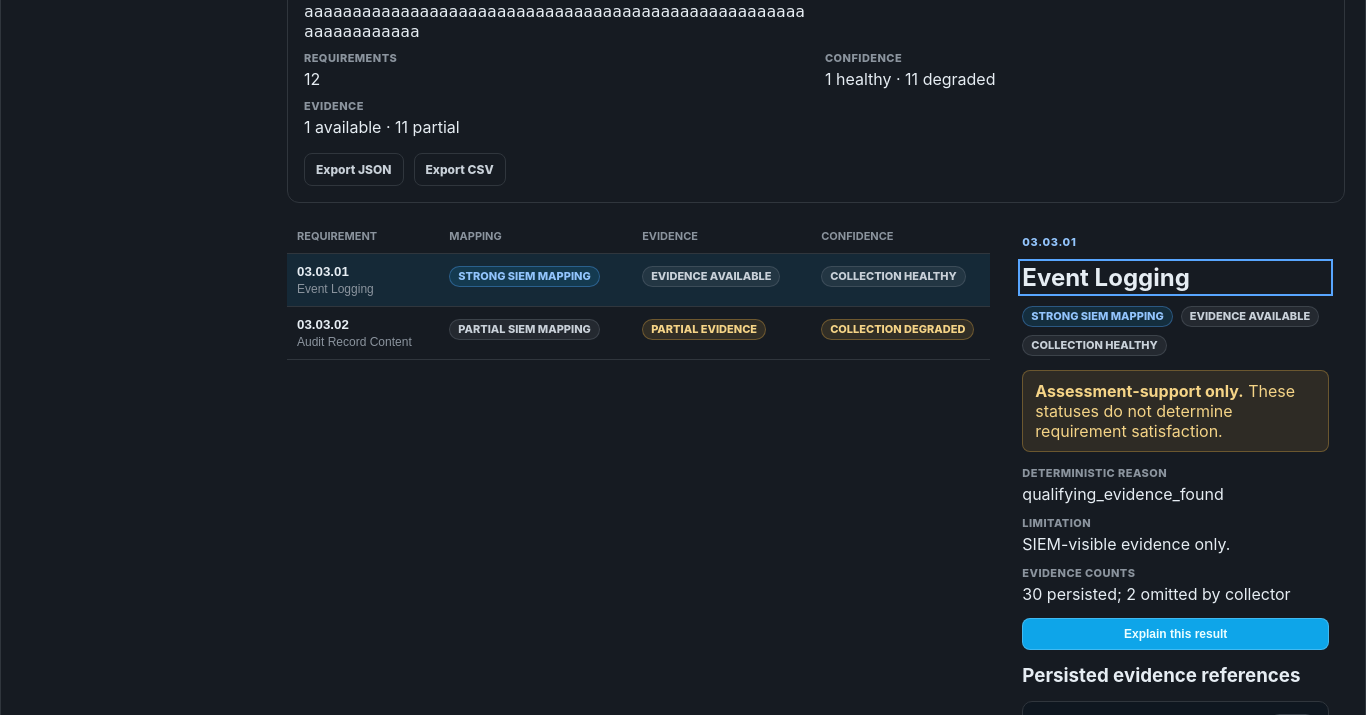
Scenario: explanation uses async lifecycle and renders only successful grounded prose
(page scrolled)
What coordinates should you click on to do the following:
click the button "Explain this result"
I would click on:
 (1176, 634)
Its box is [1022,618,1329,650].
(page scrolled)
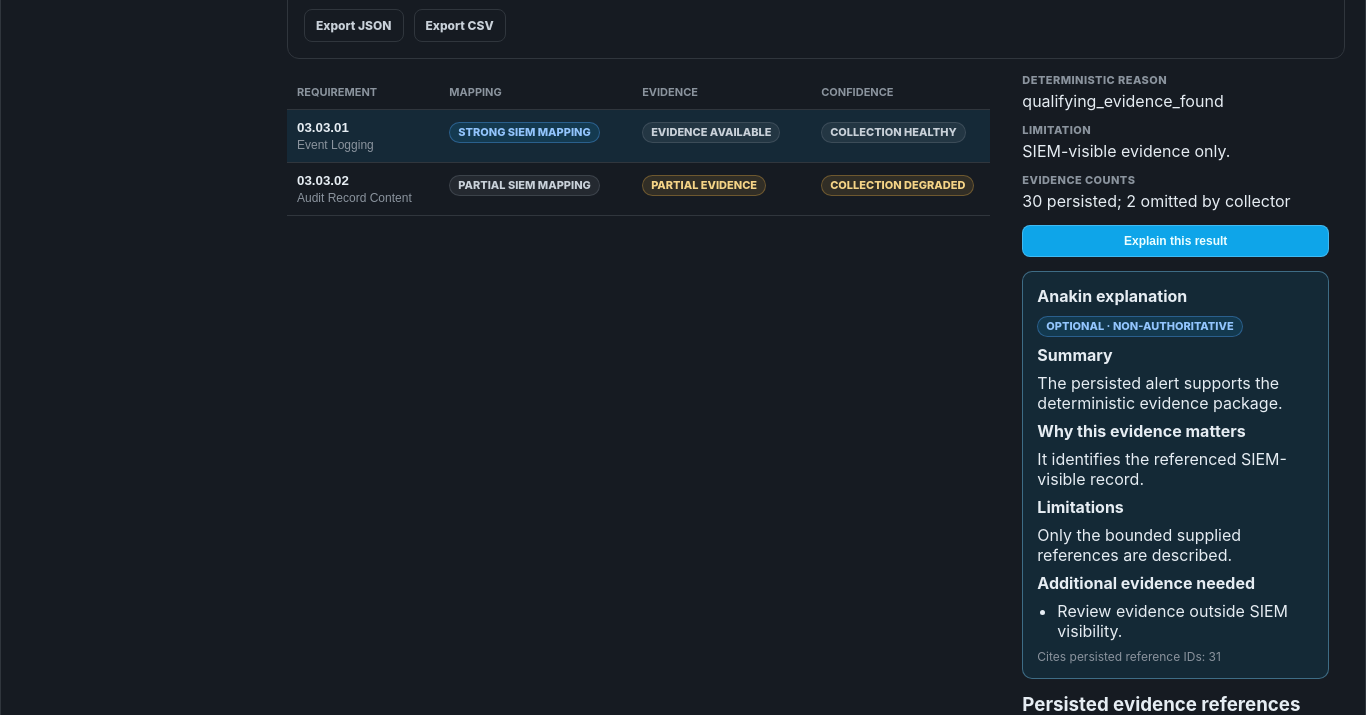
Expected: the text "The persisted alert supports the deterministic evidence package." is shown, [1037,373,1314,413]
